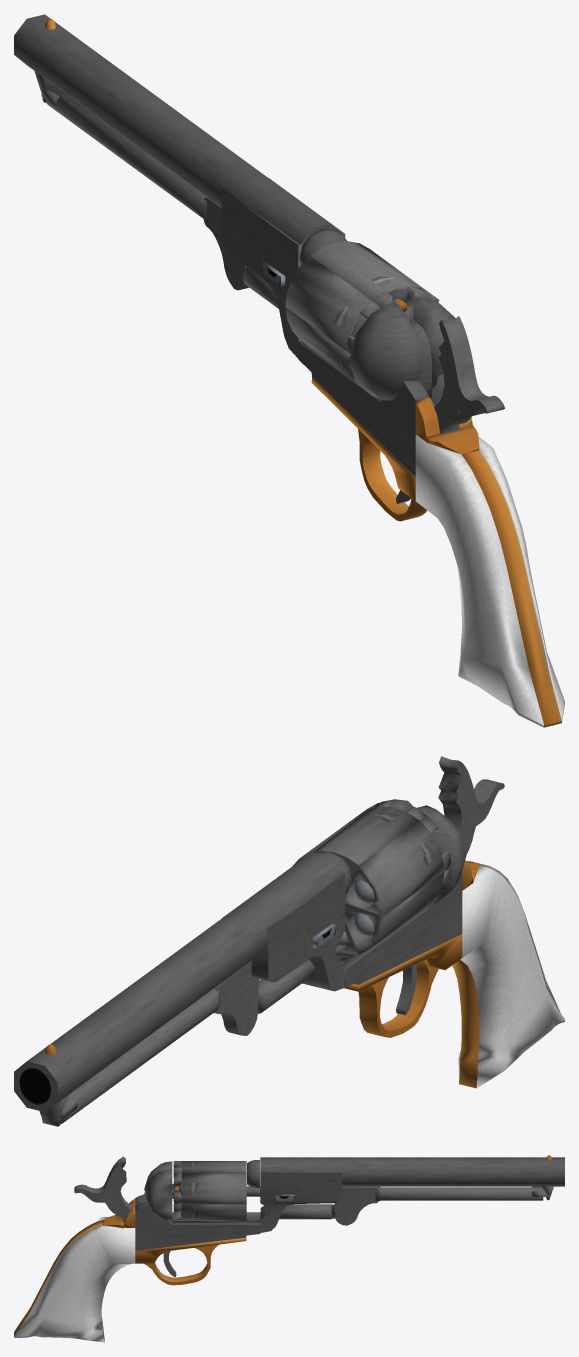
Rendered from 1851navy_view.fbx.
3 renders of one model, top to bottom at view 1: azimuth 30°, elevation 25°; view 2: azimuth 150°, elevation 25°; view 3: azimuth 270°, elevation 25°, orthographic. The views are drawn at different scales.
Parts seen in each view (by area): view 1: Regroup11; view 2: Regroup11; view 3: Regroup11.
Part boxes in pixels (<box>): Regroup11: <box>14,14,564,727</box>; Regroup11: <box>14,756,564,1126</box>; Regroup11: <box>14,1155,564,1342</box>.
Bounding box in the file's own units: 1.36 × 4.3 × 11.59.
1 material, 1 textured.
